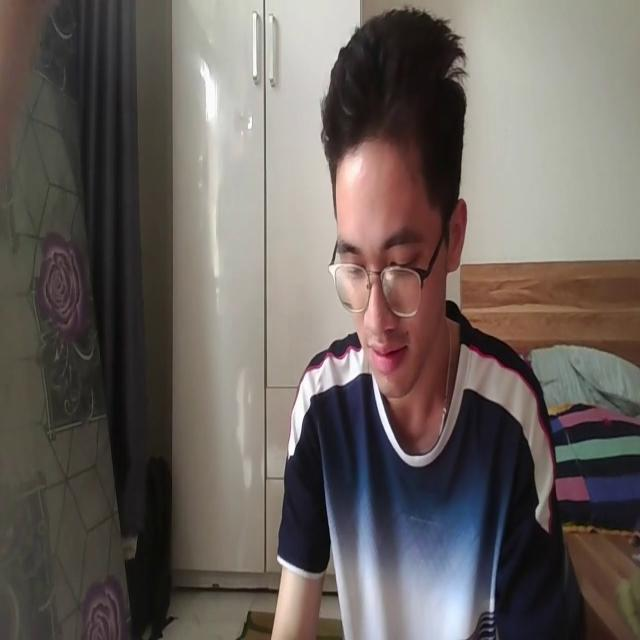student: (264, 6, 582, 640)
